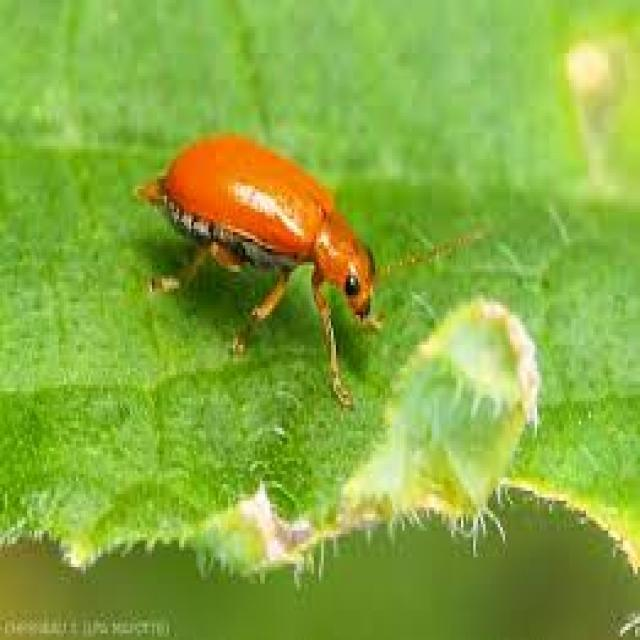Pumpkin Beetle: (123, 117, 508, 417)
